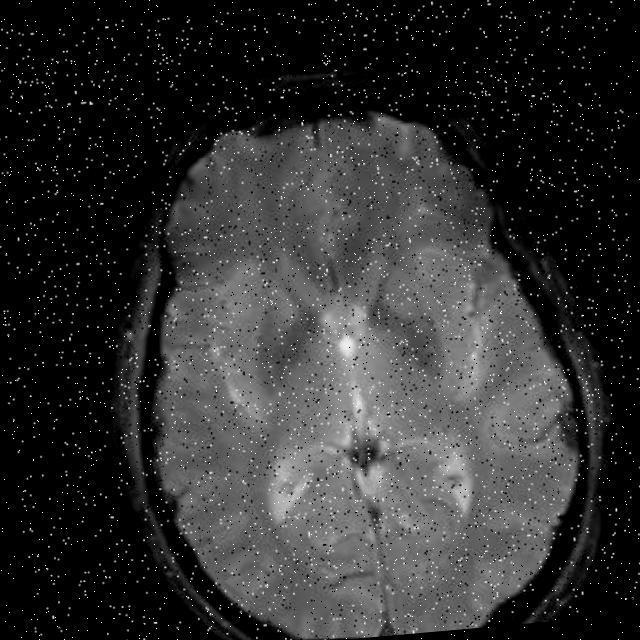MCI: (353, 278, 455, 384), (228, 290, 314, 408)
